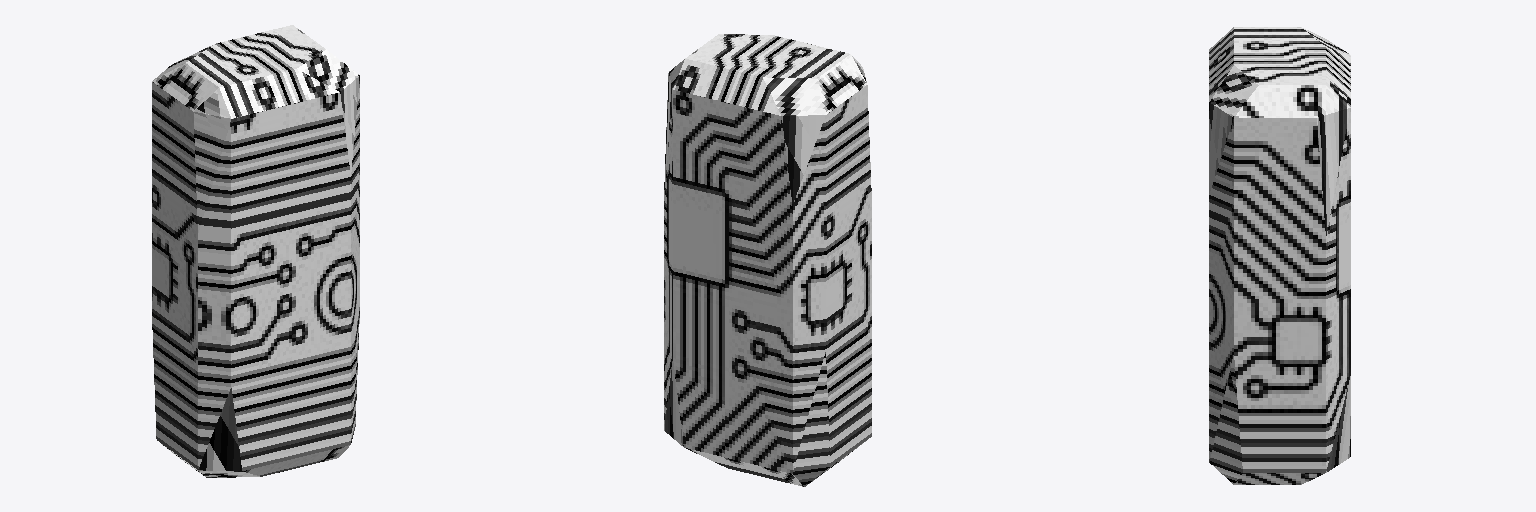
3 renders of one model, left to right at view 1: azimuth 30°, elevation 25°; view 2: azimuth 150°, elevation 25°; view 3: azimuth 270°, elevation 25°, orthographic.
Parts seen in each view (by area): view 1: Leg_Cube.003; view 2: Leg_Cube.003; view 3: Leg_Cube.003.
Boxes of the visible parts, x1=… form: Leg_Cube.003: x1=152, y1=25, x2=359, y2=477; Leg_Cube.003: x1=664, y1=34, x2=871, y2=486; Leg_Cube.003: x1=1209, y1=27, x2=1350, y2=484.
Size of the model in its own units: 0.7637 by 1.8 by 0.576.
1 materials, 1 textured.